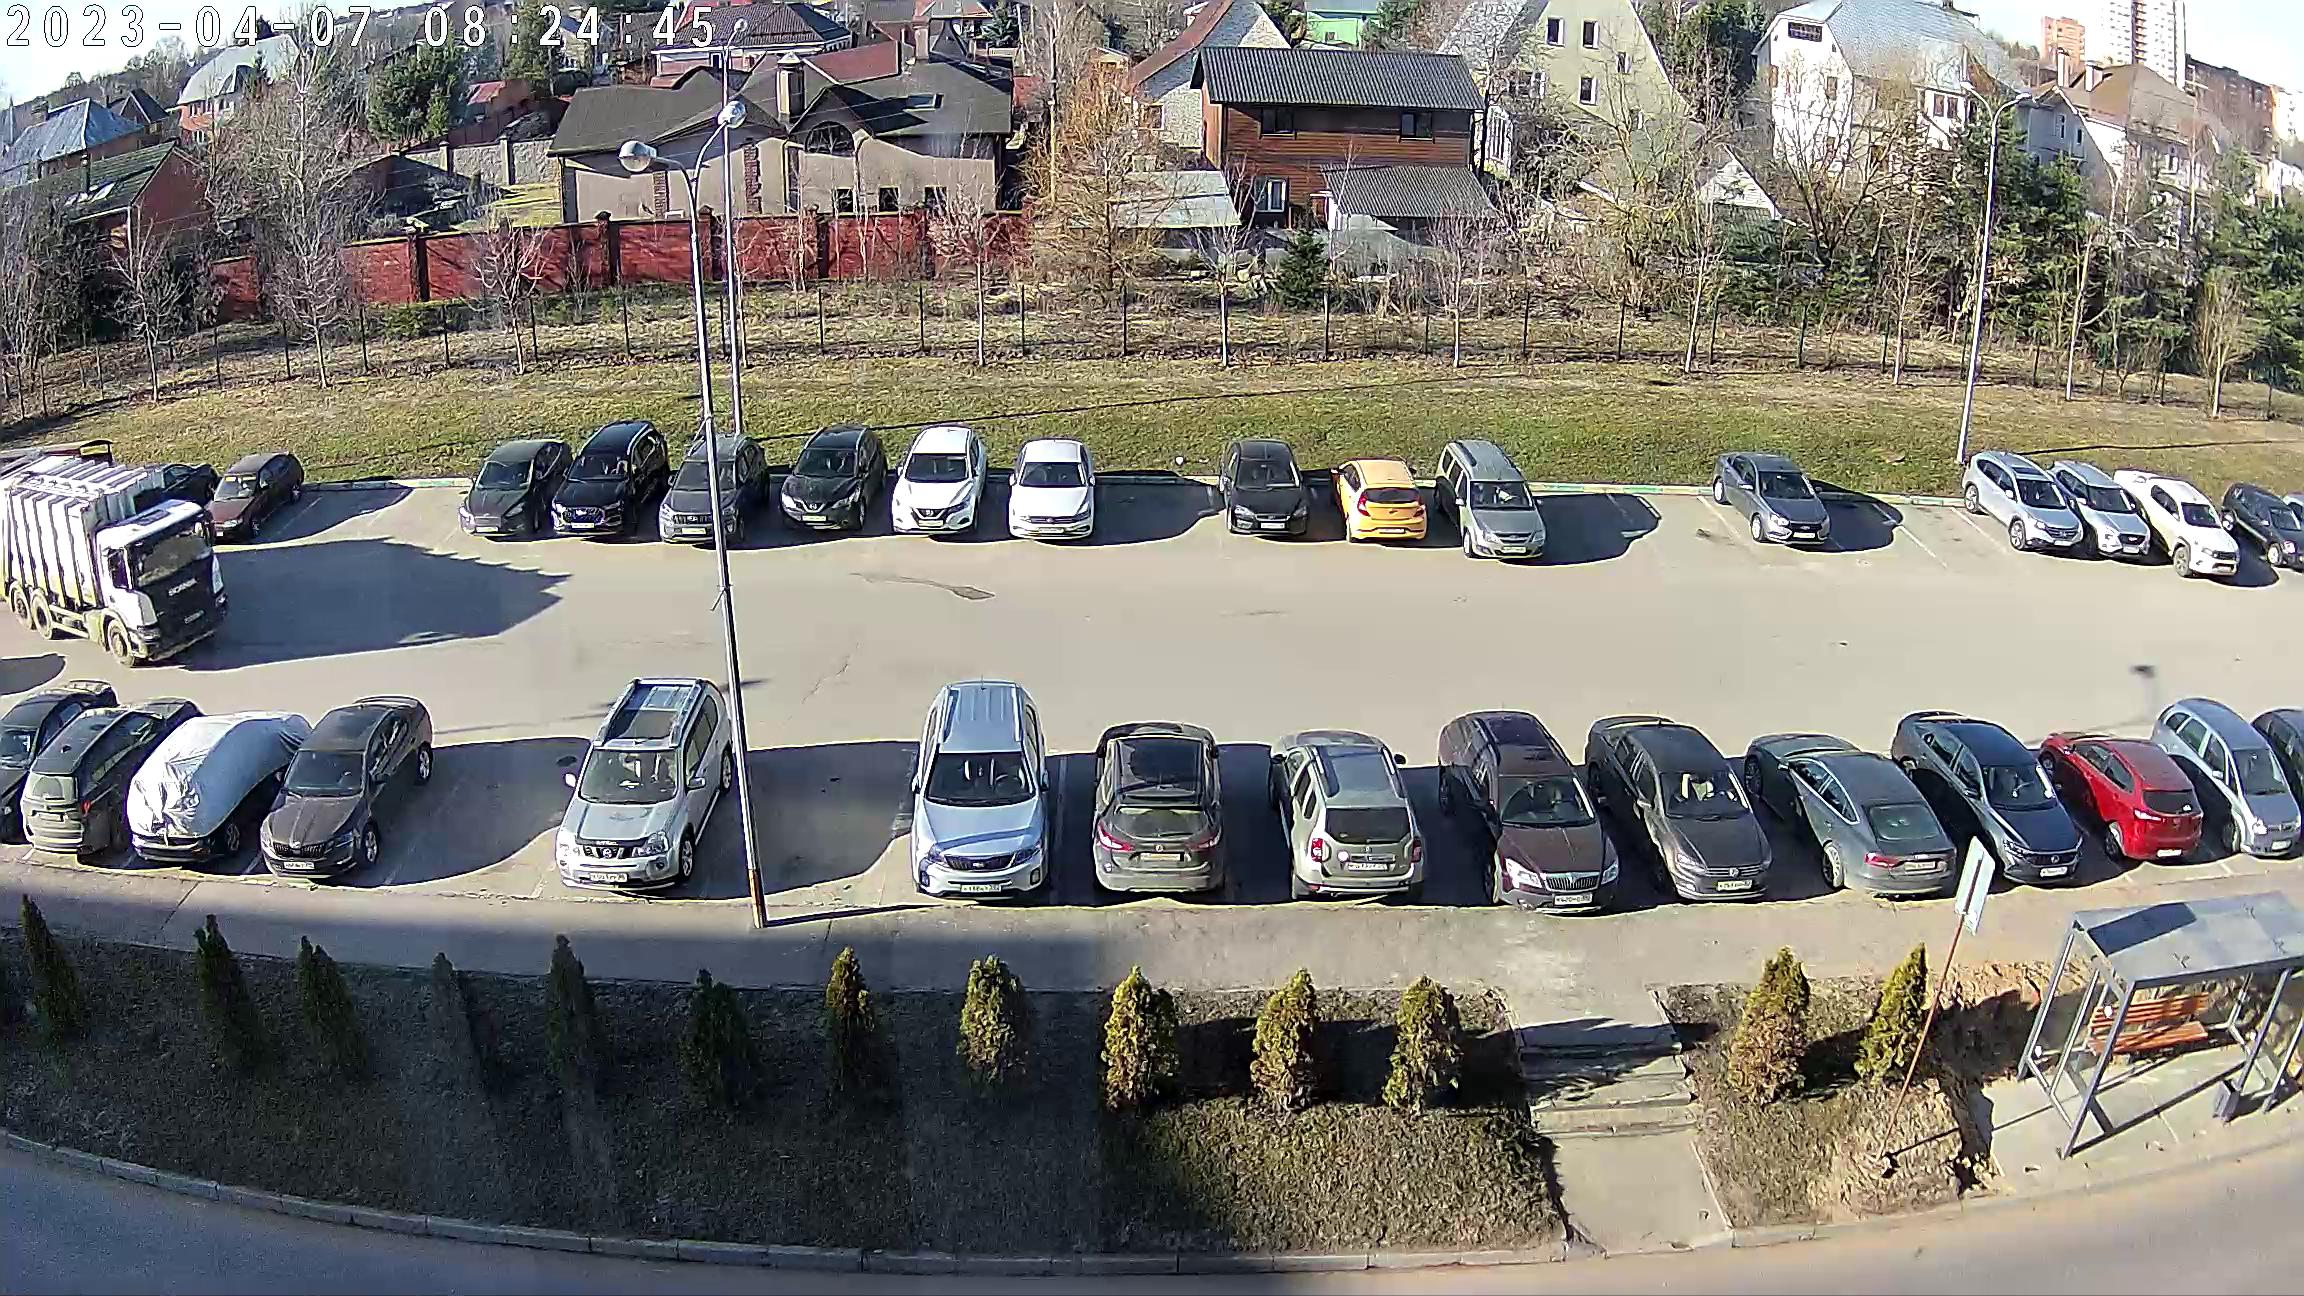empty: (0, 449, 233, 661), (885, 684, 1076, 894), (543, 680, 733, 883), (1451, 725, 1649, 913), (229, 703, 434, 883), (1606, 728, 1809, 905), (1263, 731, 1456, 902), (1070, 725, 1252, 897), (1775, 744, 1973, 896), (1929, 731, 2108, 888), (117, 714, 286, 867), (2054, 733, 2225, 866), (8, 688, 138, 861), (506, 427, 673, 546), (1967, 459, 2151, 560), (2195, 699, 2304, 864), (2127, 475, 2288, 581), (1704, 457, 1864, 554), (755, 432, 888, 538), (881, 426, 1005, 536), (1445, 453, 1562, 560), (649, 432, 761, 543), (997, 438, 1112, 543), (1215, 449, 1331, 541), (195, 454, 310, 541), (1332, 467, 1446, 546), (2222, 484, 2302, 579)
occupied: (416, 718, 548, 910), (741, 728, 885, 897), (1622, 456, 1719, 562), (1893, 462, 1988, 570), (293, 446, 386, 555), (1810, 457, 1900, 563), (1540, 460, 1622, 567), (381, 460, 470, 552), (1100, 479, 1203, 536)
